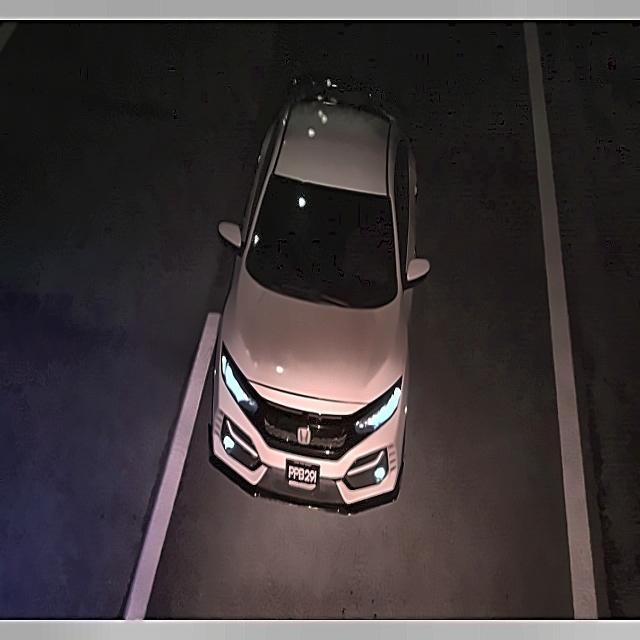car: (283, 456, 321, 494)
